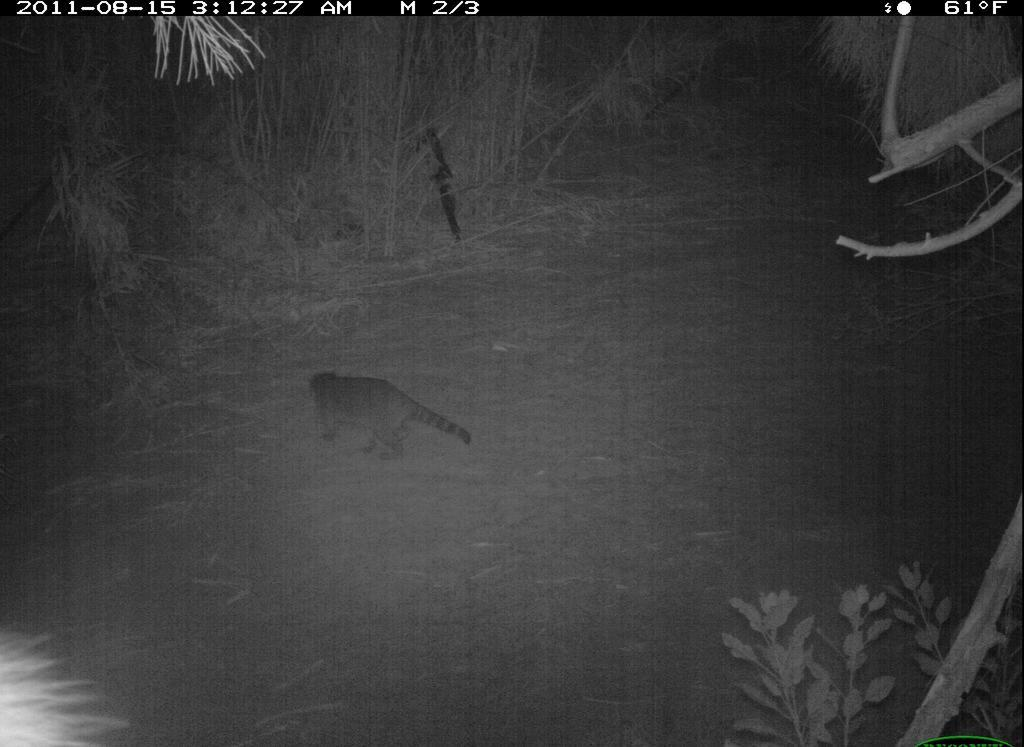raccoon: (301, 360, 484, 468)
